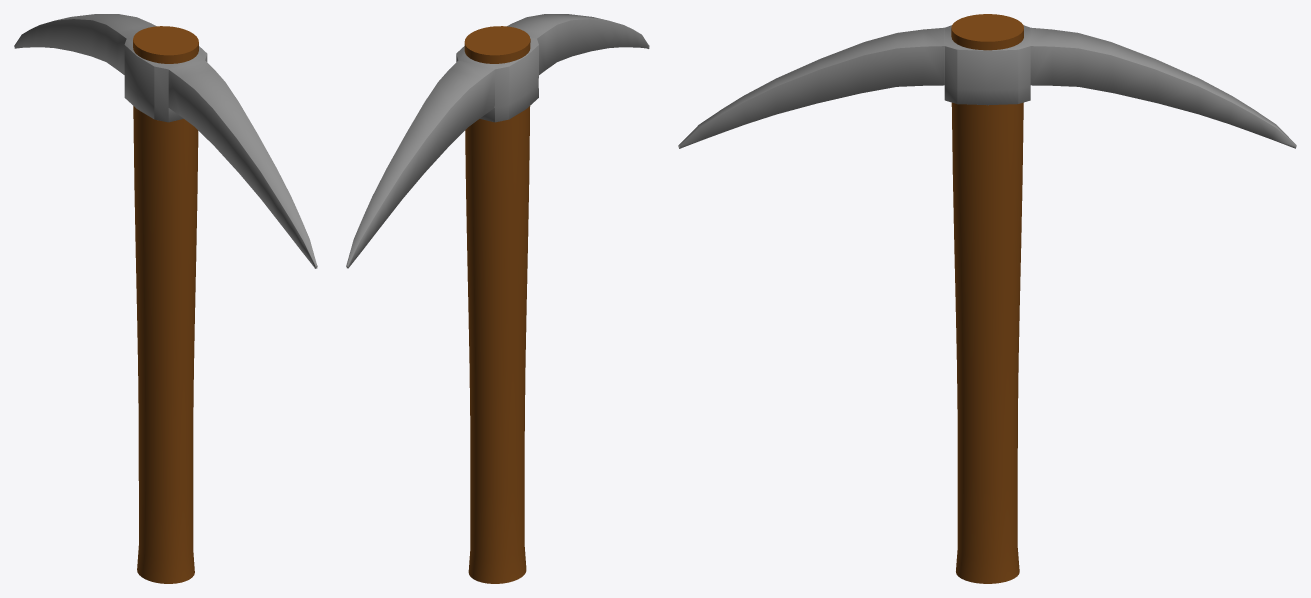
Rendered from basicPickaxe.fbx.
3 views of the same model, side by side, from view 1: azimuth 30°, elevation 25°; view 2: azimuth 150°, elevation 25°; view 3: azimuth 270°, elevation 25° (orthographic). The views are drawn at different scales.
Visible parts, largest first — view 1: Cylinder, Cube; view 2: Cylinder, Cube; view 3: Cylinder, Cube.
Part boxes in pixels (x1=…): Cylinder: x1=133, y1=26, x2=198, y2=583; Cube: x1=14, y1=14, x2=317, y2=268; Cylinder: x1=464, y1=26, x2=530, y2=583; Cube: x1=346, y1=14, x2=649, y2=268; Cylinder: x1=951, y1=14, x2=1023, y2=583; Cube: x1=678, y1=25, x2=1296, y2=148.
Bounding box in the file's own units: 120 × 1086 × 1053.
